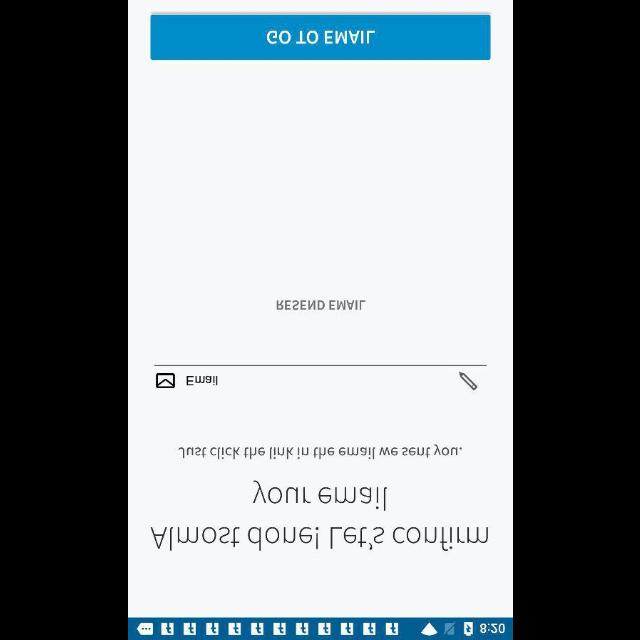input: (154, 364, 486, 390)
text: (150, 479, 488, 551), (178, 442, 462, 460), (276, 300, 364, 310), (186, 376, 218, 384)
textbutton: (150, 15, 490, 60)
uppertaskbar: (128, 617, 512, 639)
